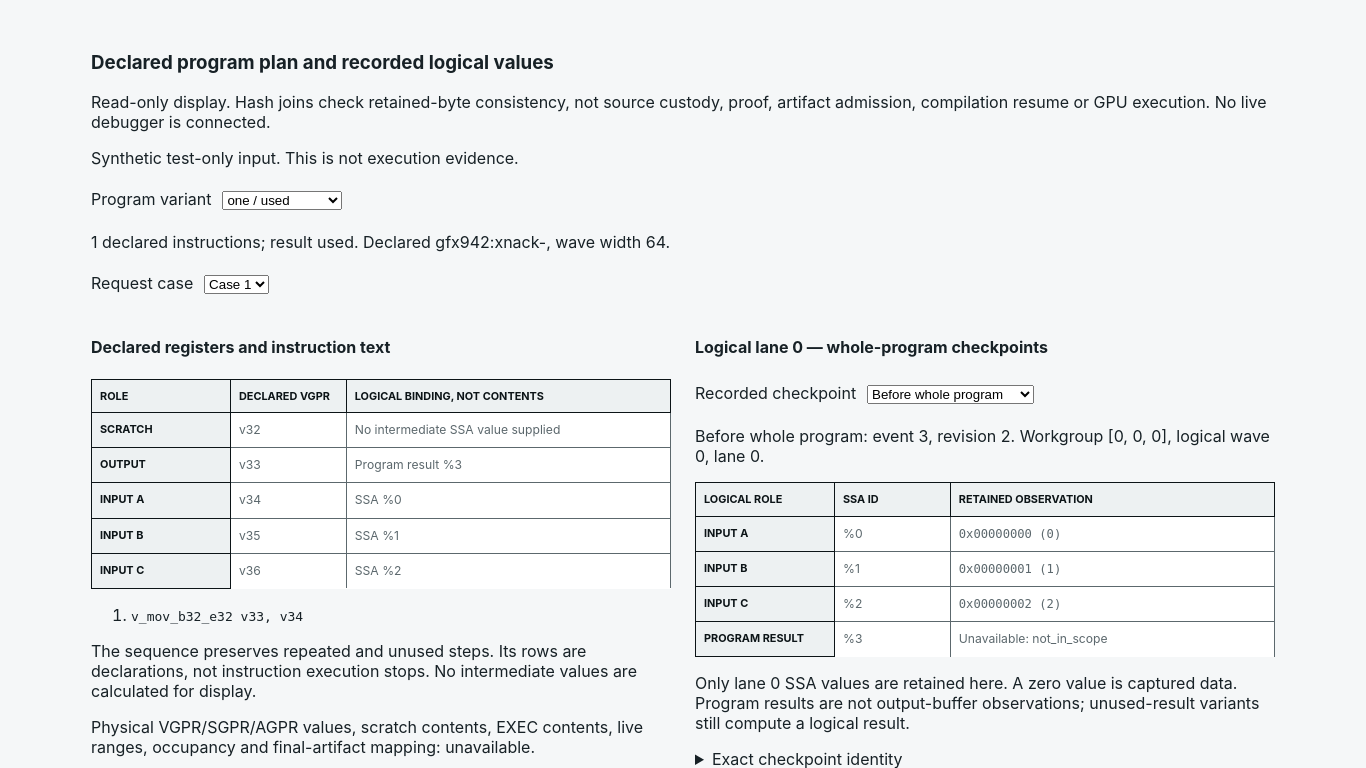
Test case: resets phase on case/variant changes and retains sixteen declared steps
Select "sixteen / used" in the dropdown named "Recorded program variant" at (282, 200), box [222, 191, 342, 210]
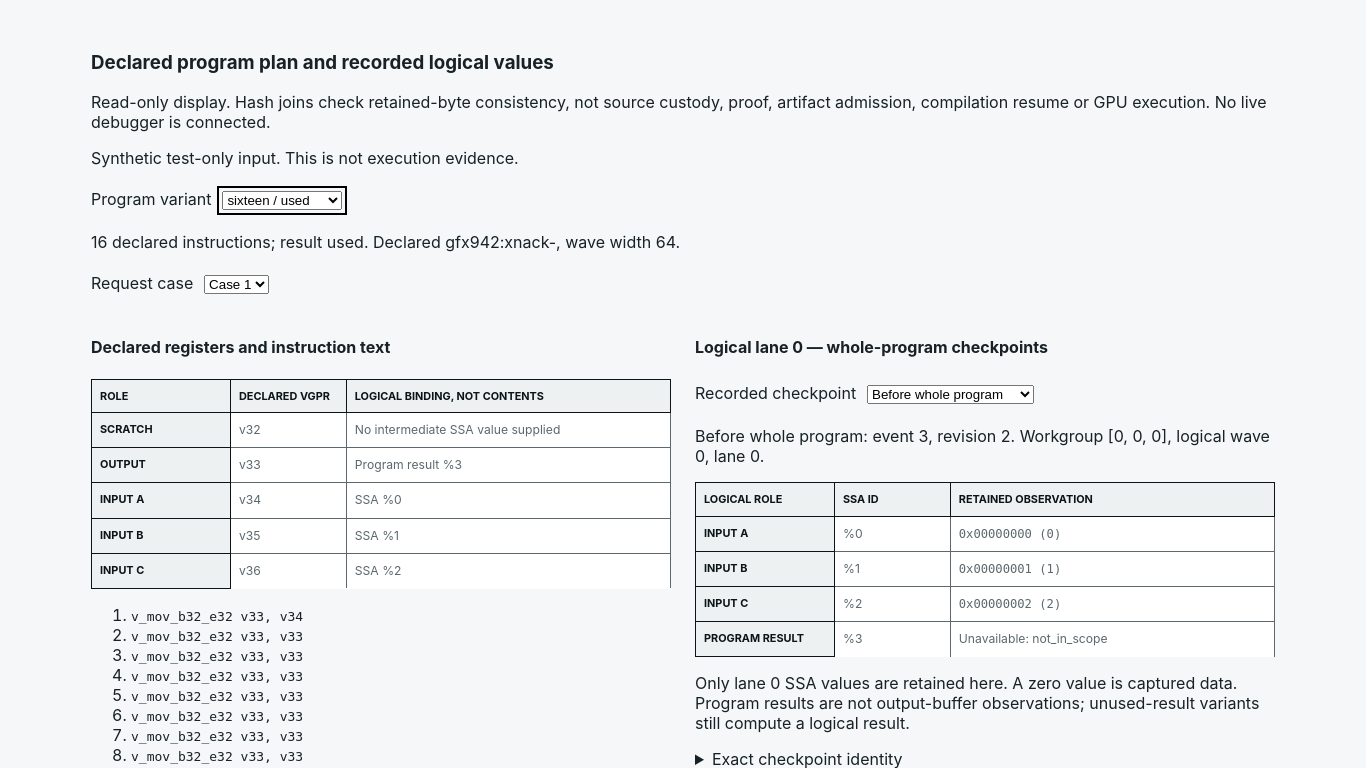
Now the number of list items is 16
Select "Repeated after" in the dropdown named "Recorded whole-program checkpoint" at (950, 394), box [867, 385, 1034, 404]
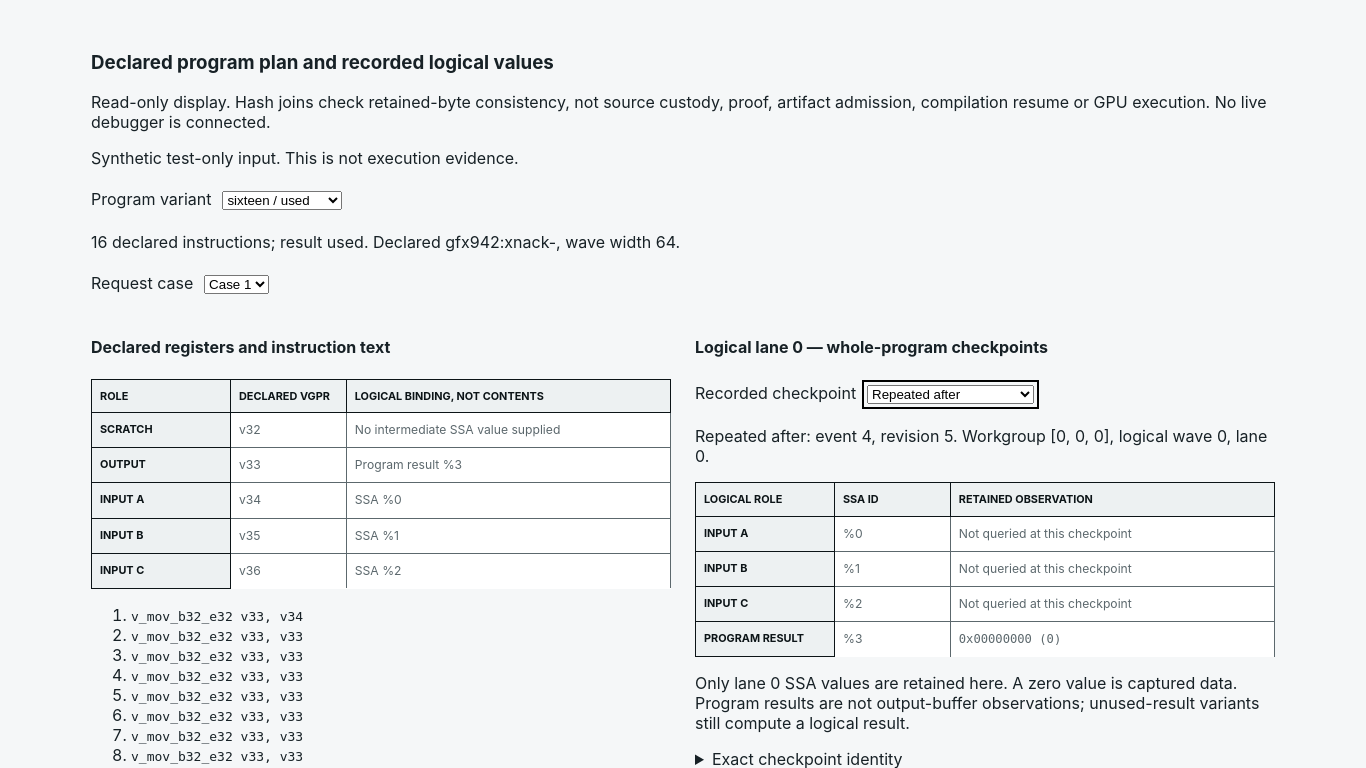
Select "Case 6" in the dropdown named "Recorded program request case" at (237, 284), box [204, 275, 269, 294]
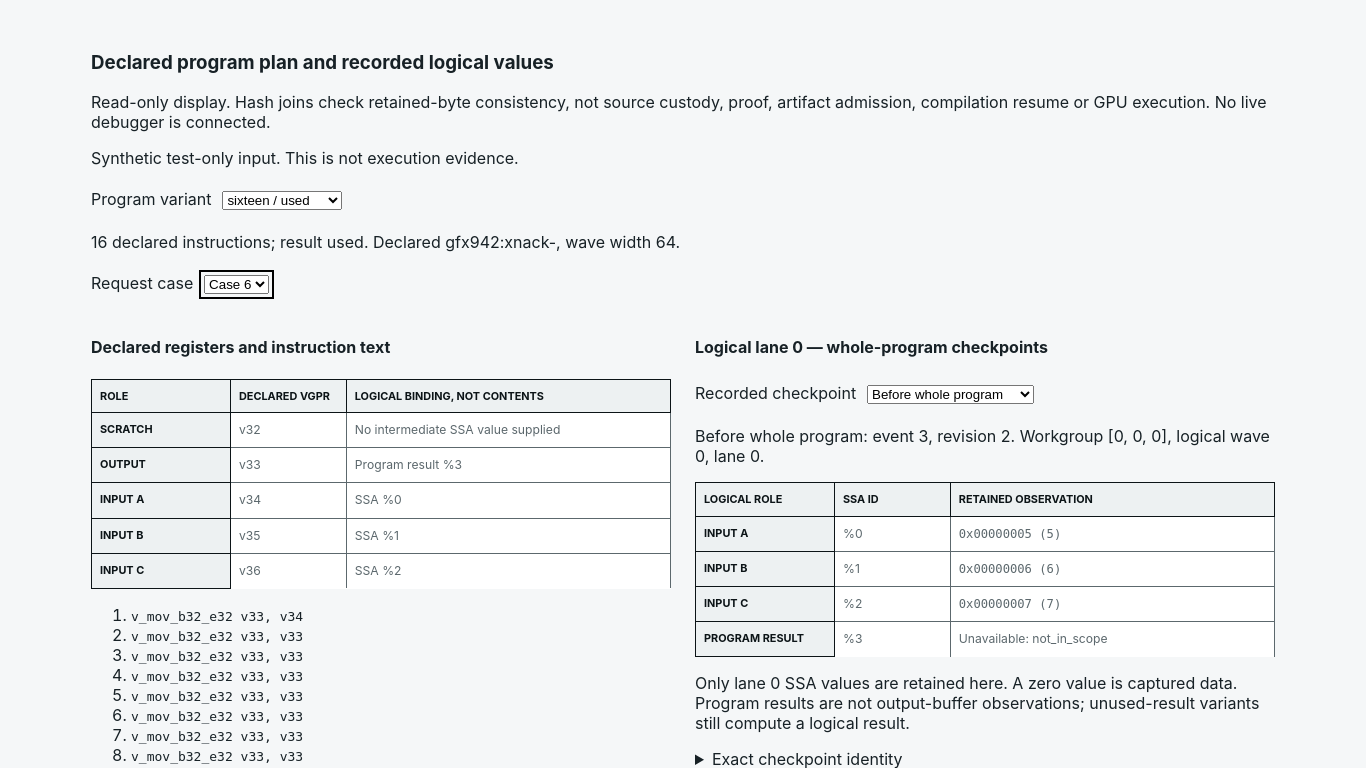
Now the dropdown named "Recorded whole-program checkpoint" shows "Before whole program", box [867, 385, 1034, 404]
Select "one / unused" in the dropdown named "Recorded program variant" at (282, 200), box [222, 191, 342, 210]
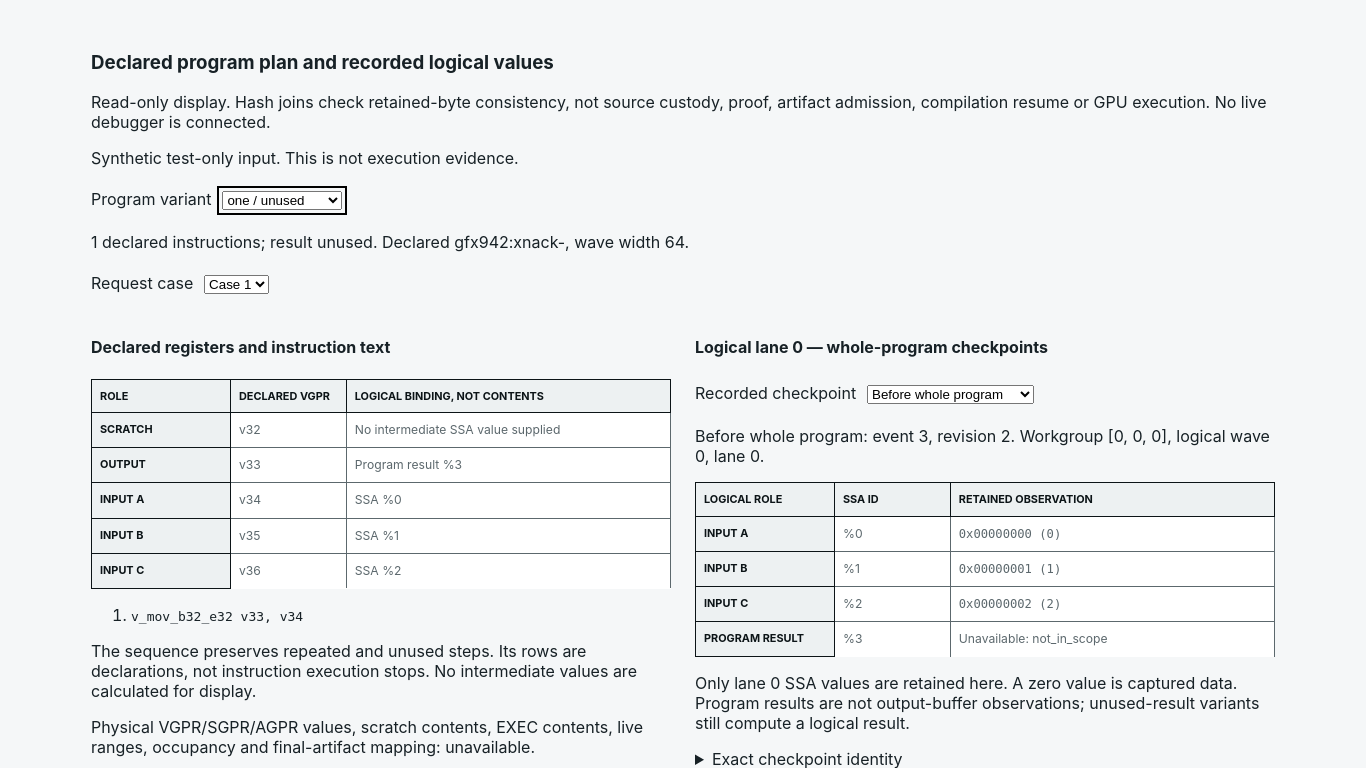
Now the dropdown named "Recorded program request case" shows "Case 1", box [204, 275, 269, 294]
